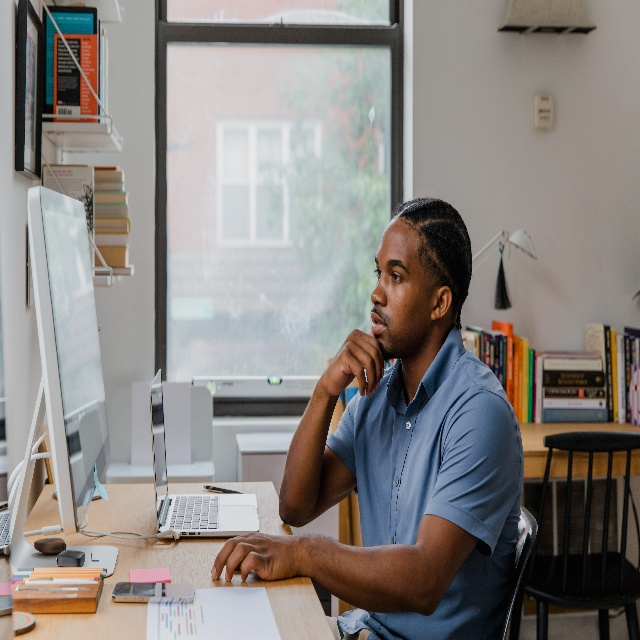Sin_guantes: (209, 526, 310, 582), (324, 328, 384, 398)
